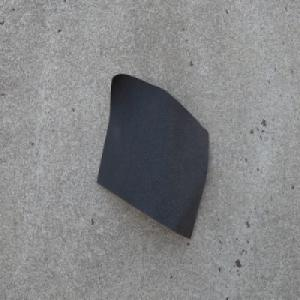PaintChip: (95, 72, 210, 240)
